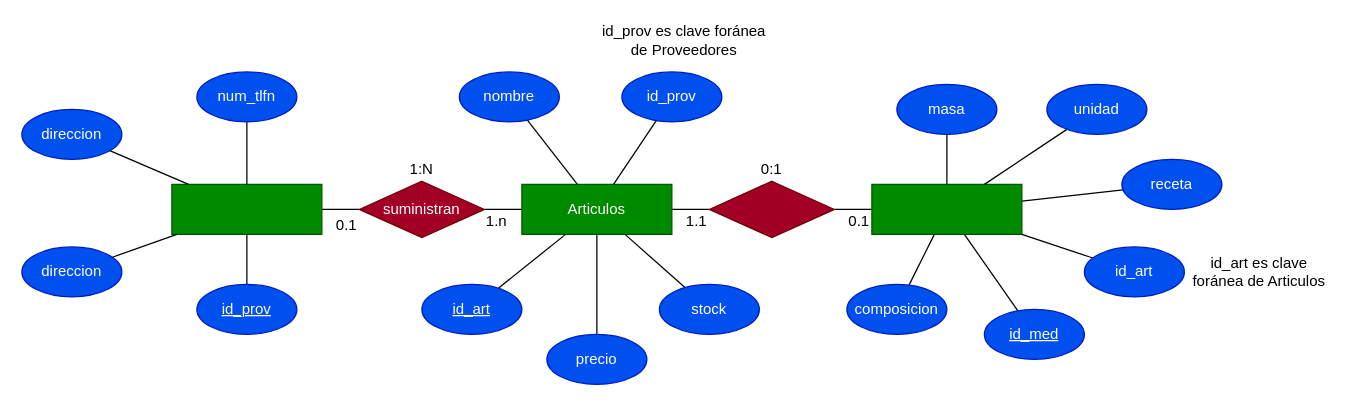
Some shapes in this 1356 by 406 pixel diagram are drawn without their labels. The shapes that lost their labels are listed below. From the top down, each one's centre as x and y in pixels, then its label:
At (x=246, y=208): "Proveedores".
At (x=771, y=209): "pueden ser".
At (x=946, y=208): "Medicamentos".
